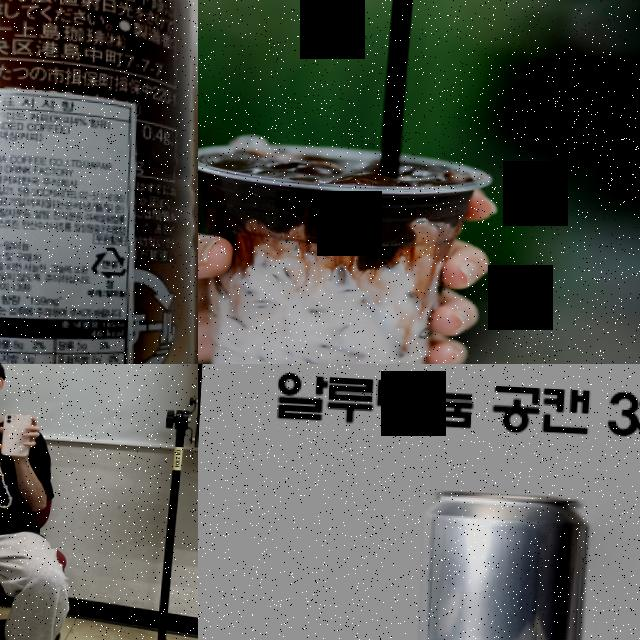can: (0, 0, 198, 364), (404, 488, 590, 640)
cup: (198, 138, 496, 364)
